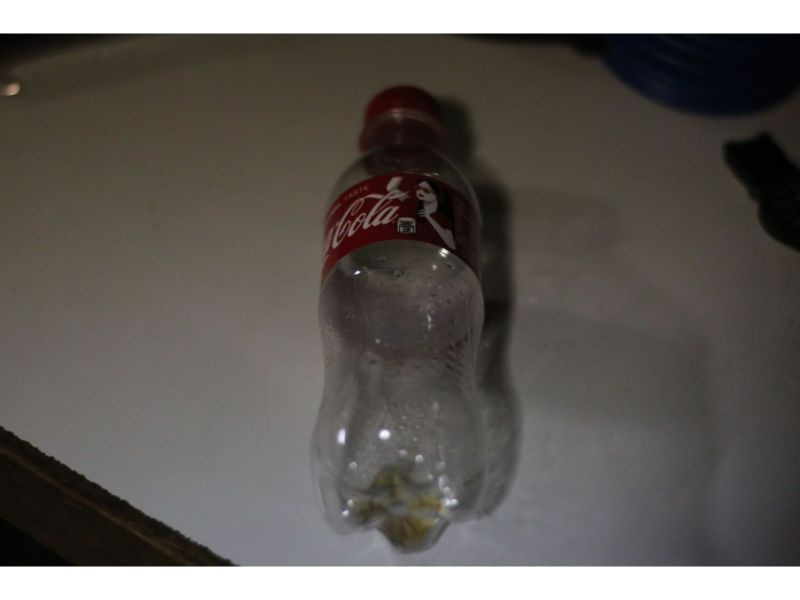PET #1: (309, 73, 500, 556)
